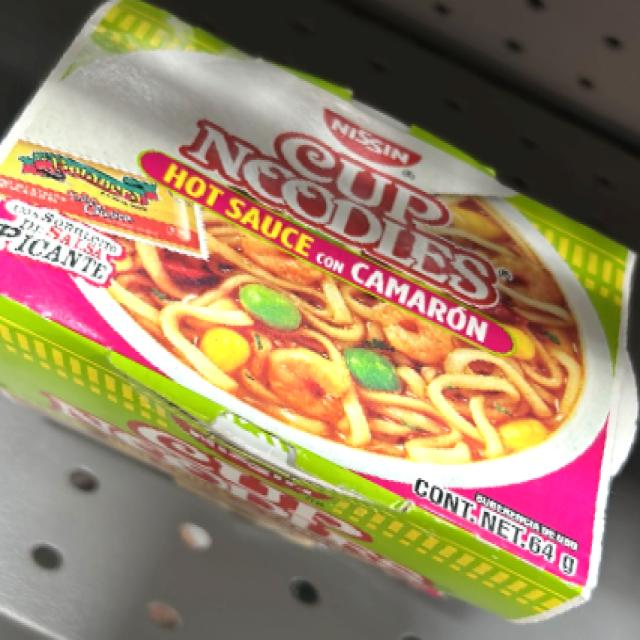nissinCamaron: (35, 90, 580, 501)
